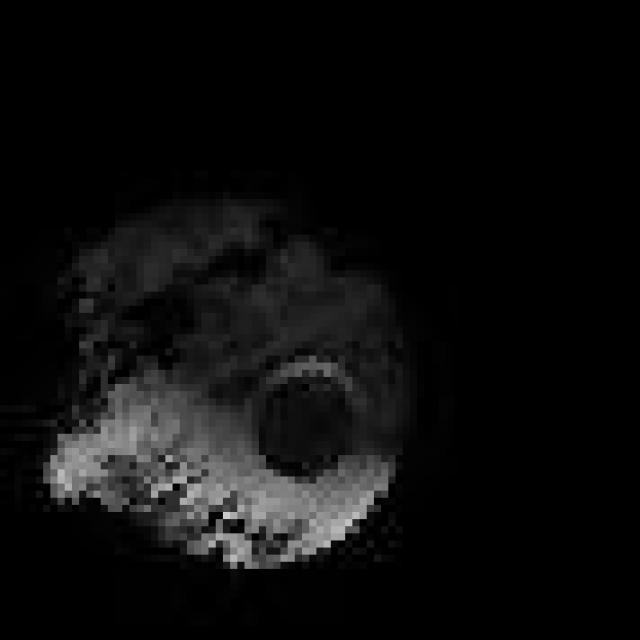Death Star: (29, 178, 424, 576)
